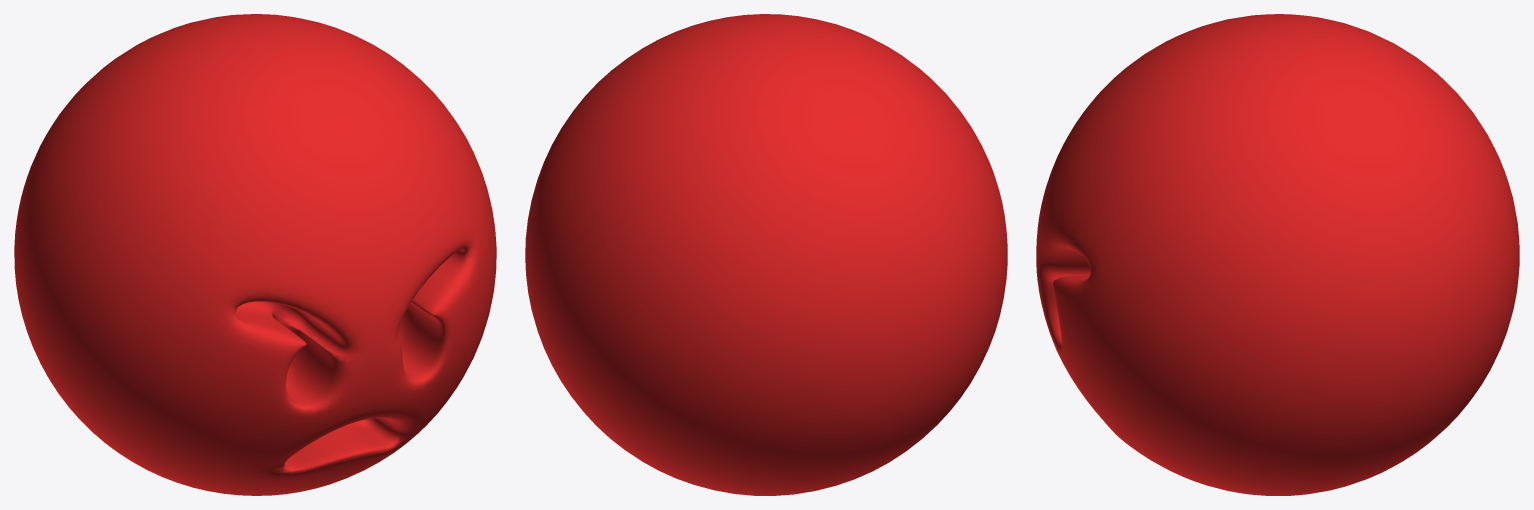
File: 91_angry.glb
3 renders of one model, left to right at view 1: azimuth 30°, elevation 25°; view 2: azimuth 150°, elevation 25°; view 3: azimuth 270°, elevation 25°, orthographic.
Parts seen in each view (by area): view 1: Group59195.001; view 2: Group59195.001; view 3: Group59195.001.
Boxes of the visible parts, bbox=[...] form: Group59195.001: bbox=[14, 14, 496, 495]; Group59195.001: bbox=[525, 14, 1007, 495]; Group59195.001: bbox=[1036, 14, 1519, 495].
Bounding box in the file's own units: 0.5187 × 0.5183 × 0.5199.
